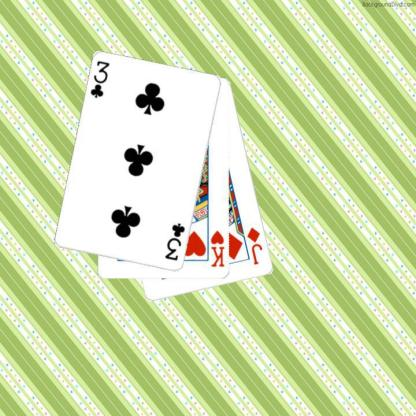3C: (162, 221, 187, 262), (88, 58, 111, 100)
JD: (244, 225, 264, 266)
KH: (208, 228, 226, 268)
